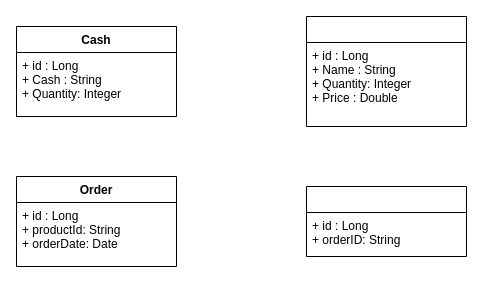
Image size: 483x283. Some labels were removed from this diagram. The shapes that lost their labels are listed below. From the top down, each one's box as (x1, y1, x2, y2) in pixels, then its label:
(306, 16, 466, 126): Product
(306, 186, 466, 256): PromotionHistory
